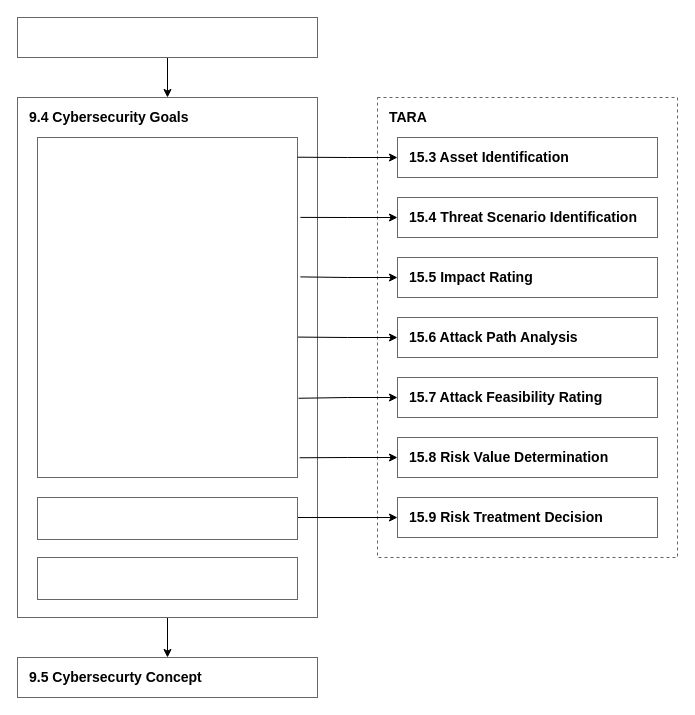
The diagram is 695 pixels wide and 715 high, and some of its shapes have lost their labels. The shapes that lost their labels are listed below. From the top down, each one's centre as x and y in pixels, then its label:
At pixel 167 37: "9.3 Item Defination".
At pixel 167 307: "Perform an analysis ([RQ-09-03])".
At pixel 167 518: "Determine Risk Treatement Options ([RQ-09-04])".
At pixel 167 578: "Specify Cybersecurity Goals ([RQ-09-05])".
